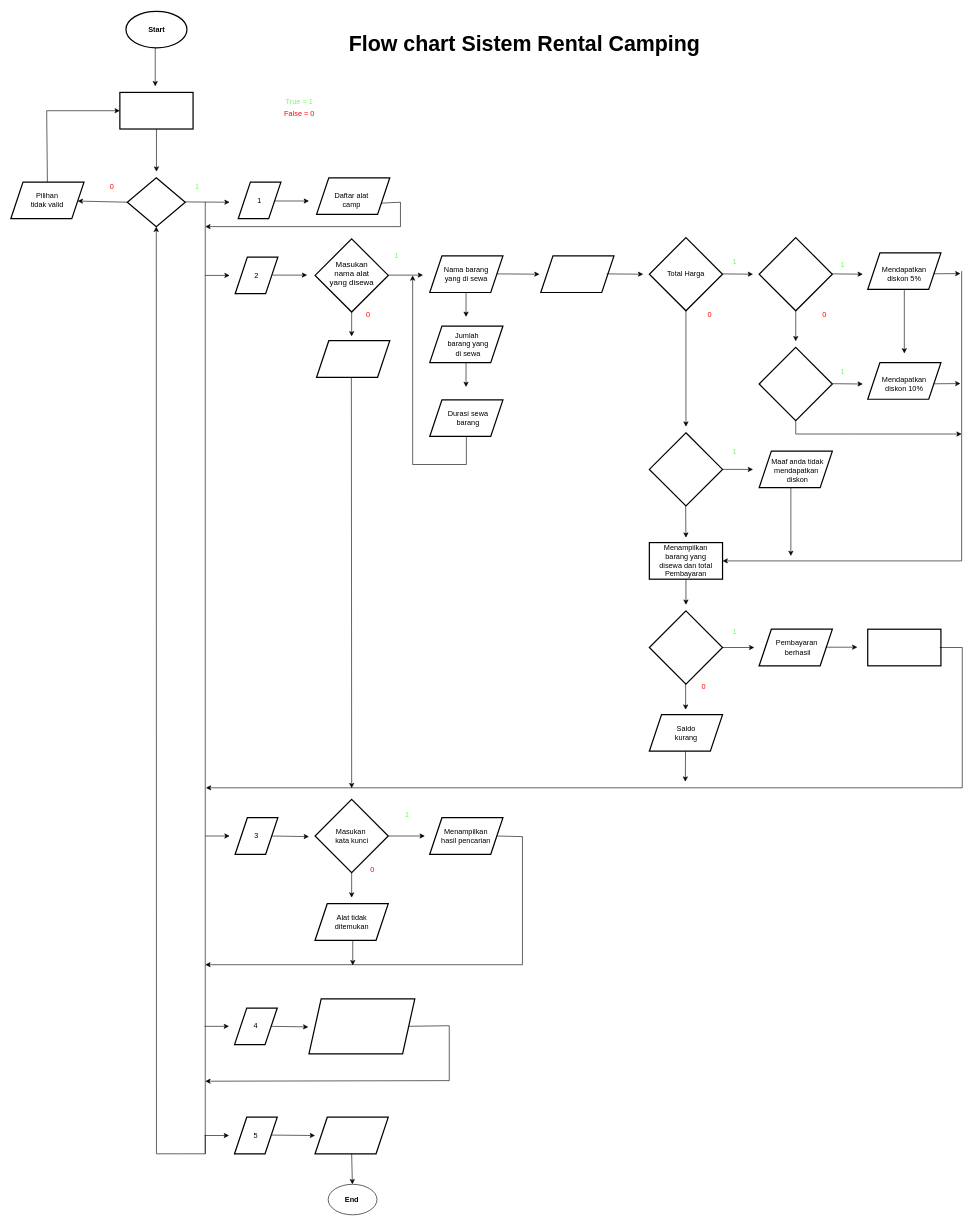
This 978x1225 diagram has some shape labels left out. The box of each missing label's shape, as (x1, y1, x2, y2) in pixels:
Anda tidak menyewa barang apapun: (316, 340, 390, 378)
Masukan Jumlah Uang: (648, 610, 723, 684)
Menampilkan Terima kasih: (314, 1116, 389, 1154)
Menampilkan total kembalian: (867, 628, 941, 666)
Menampilkan urutan dari yang termurah ke yang termahal: (308, 998, 415, 1054)
Pilih menu ( 1 - 5 ): (126, 177, 186, 227)
Selesai: (540, 255, 614, 293)
Sewa barang <50k: (648, 432, 723, 506)
Sewa barang >100k: (758, 346, 833, 421)
Sewa barang >50k: (758, 237, 833, 311)
Tampilkan rental alat camp: (119, 92, 193, 129)
